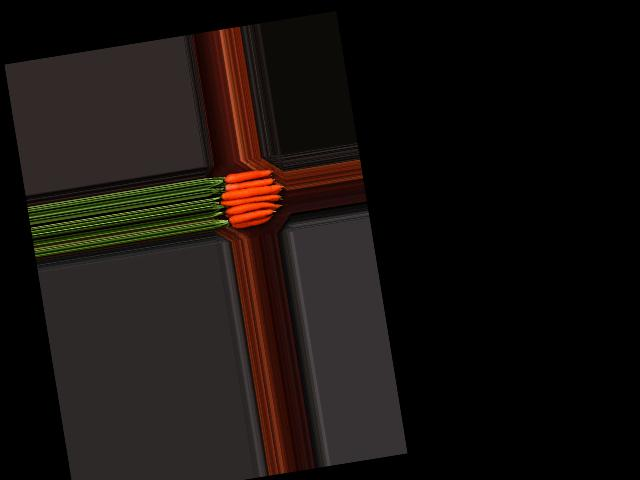carrot: (229, 213, 279, 233)
